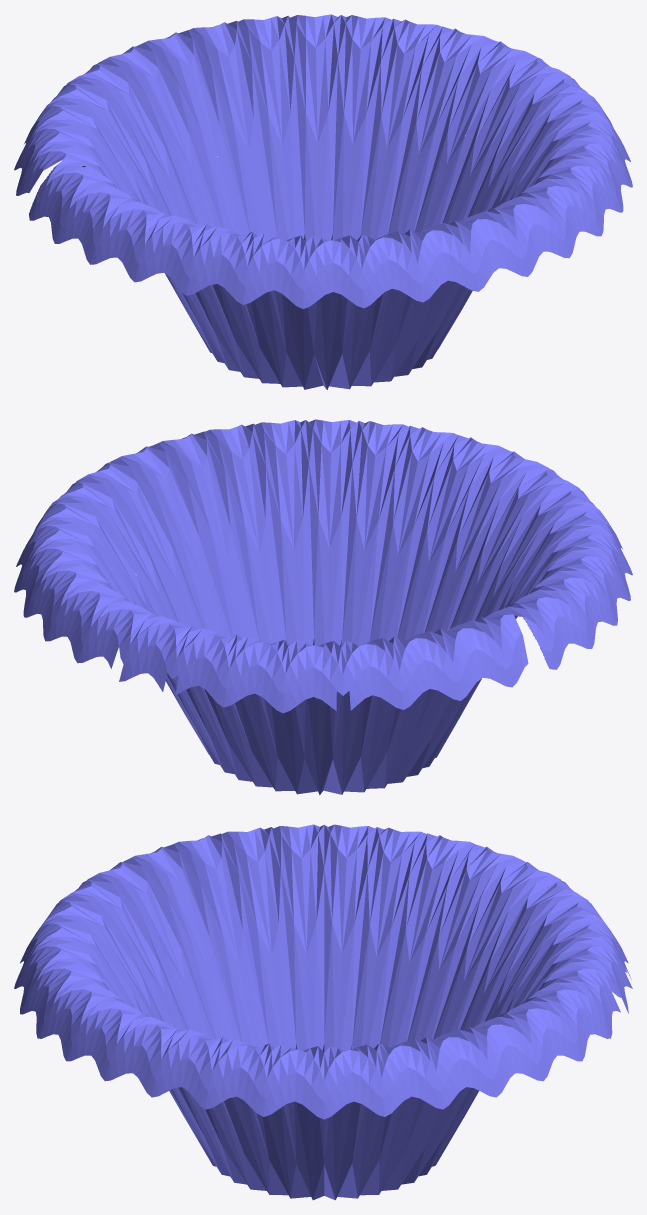
Rendered from blackhole2.obj.
The picture shows the model from 3 angles, top to bottom: view 1: azimuth 30°, elevation 25°; view 2: azimuth 150°, elevation 25°; view 3: azimuth 270°, elevation 25°; orthographic projection.
Parts seen in each view (by area): view 1: Cone; view 2: Cone; view 3: Cone.
Part boxes in pixels (bbox=[...]): Cone: bbox=[14, 14, 632, 389]; Cone: bbox=[14, 419, 632, 794]; Cone: bbox=[14, 824, 632, 1200].
Size of the model in its own units: 2.55 by 1.17 by 2.55.
Materials: 1 (1 with a texture image).
